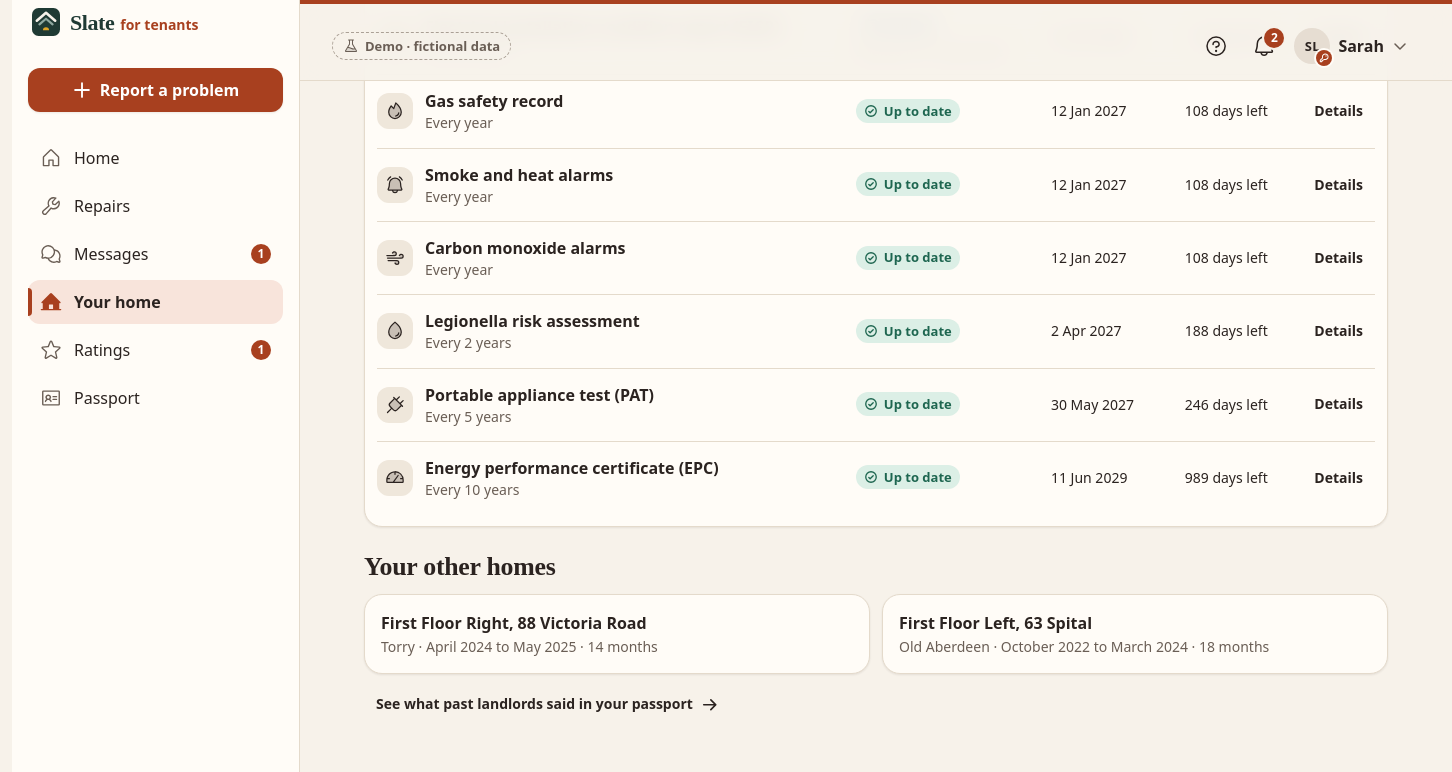
the tenancy page › lists past homes, and a past tenancy says it has ended
The image size is (1452, 772).
(page scrolled)
What coordinates should you click on to do the following:
click the link "First Floor Right, 88 Victoria Road"
I would click on:
 (617, 634)
Its box is x1=364 y1=594 x2=870 y2=674.
(page scrolled)
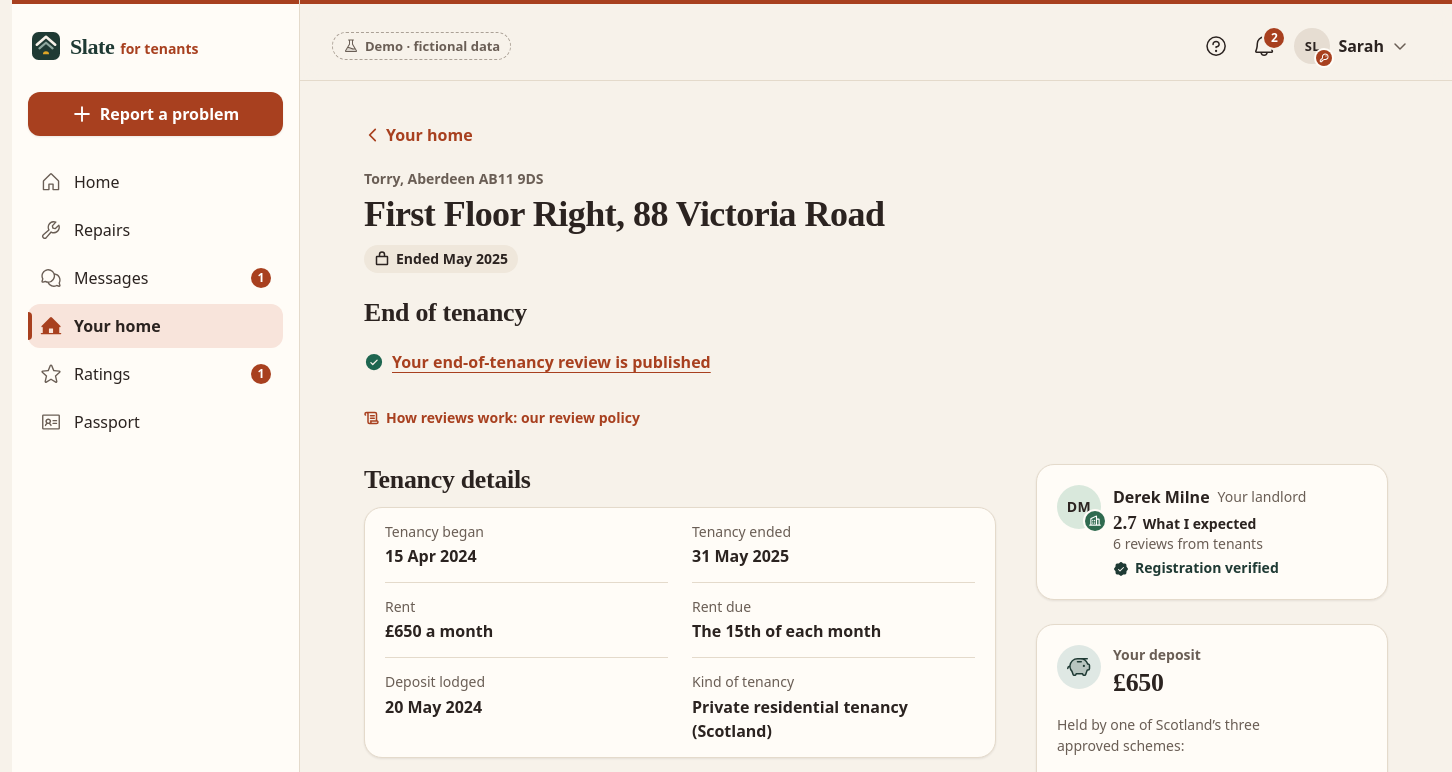
Result: the heading "First Floor Right, 88 Victoria Road" is shown at x1=364 y1=195 x2=884 y2=235
Result: the text "Ended May 2025" is shown at x1=396 y1=249 x2=508 y2=269
